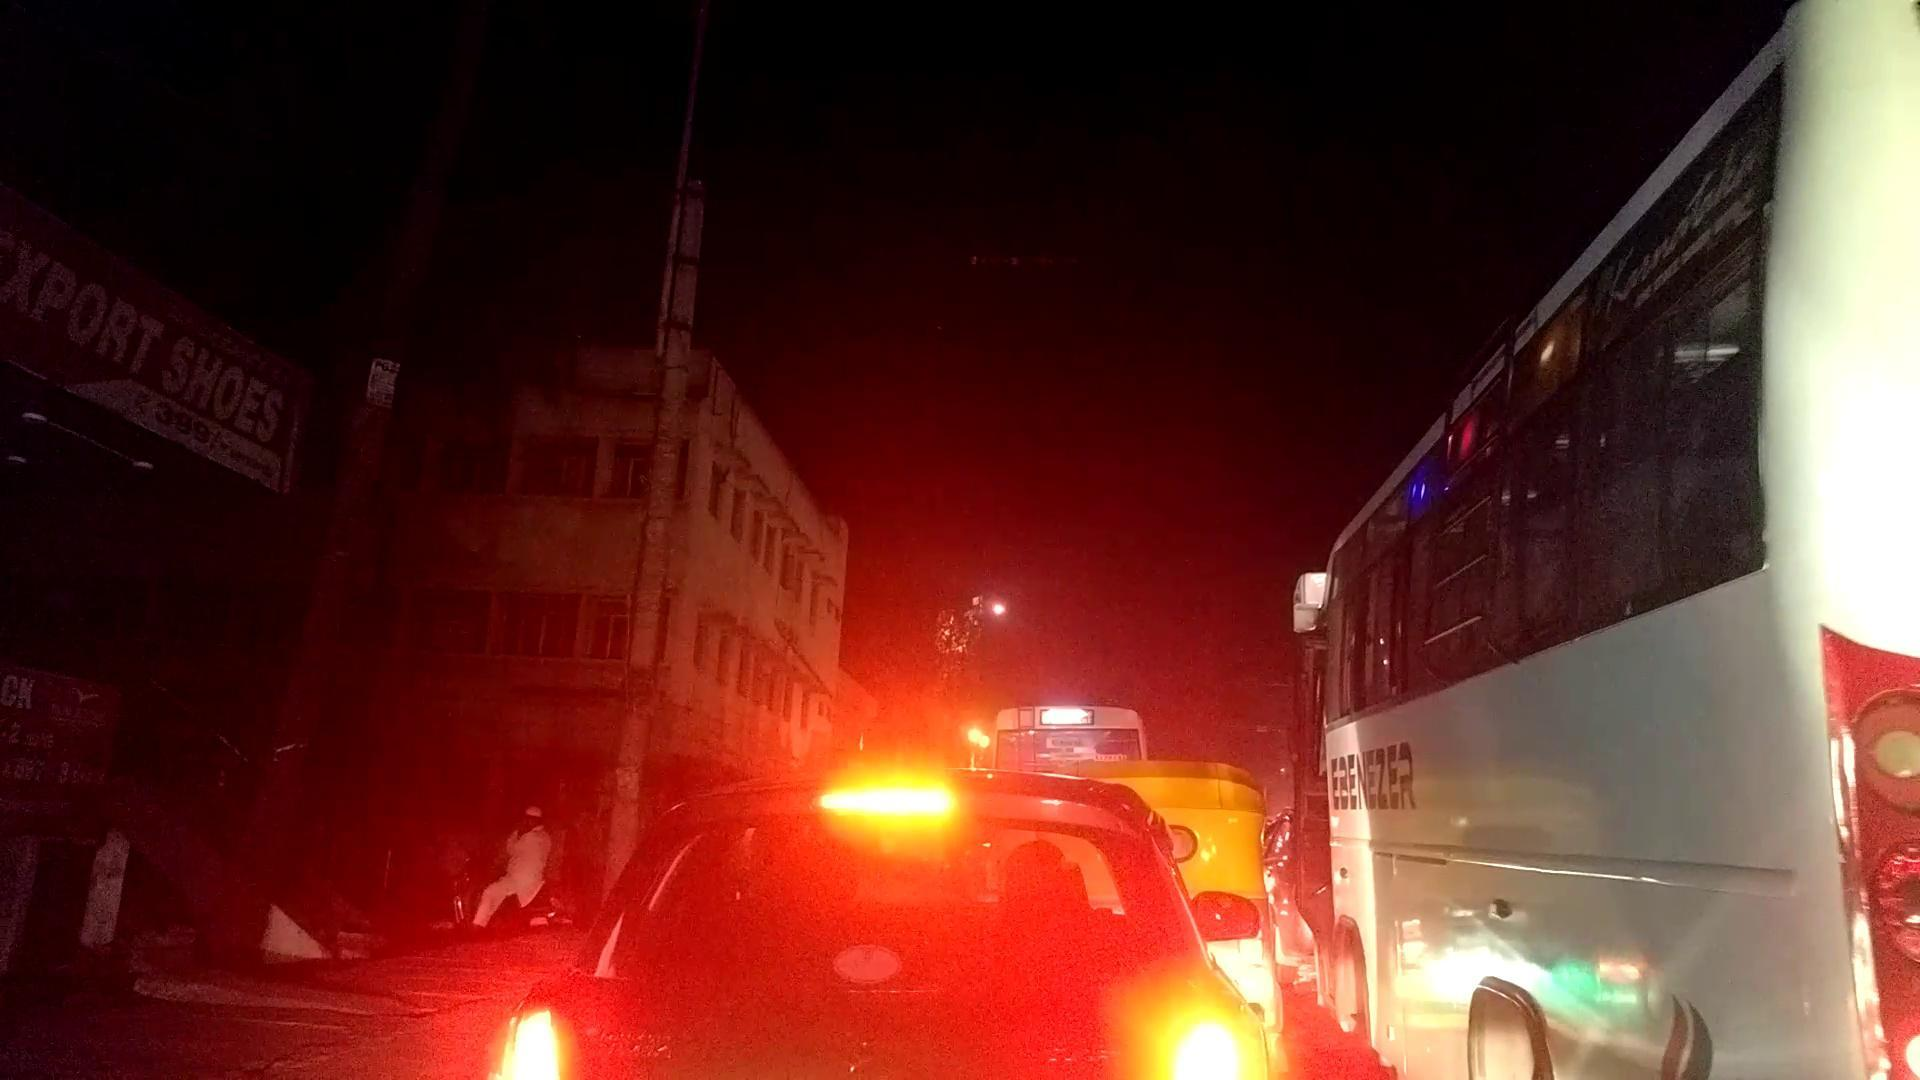on: (870, 502, 1358, 1080)
